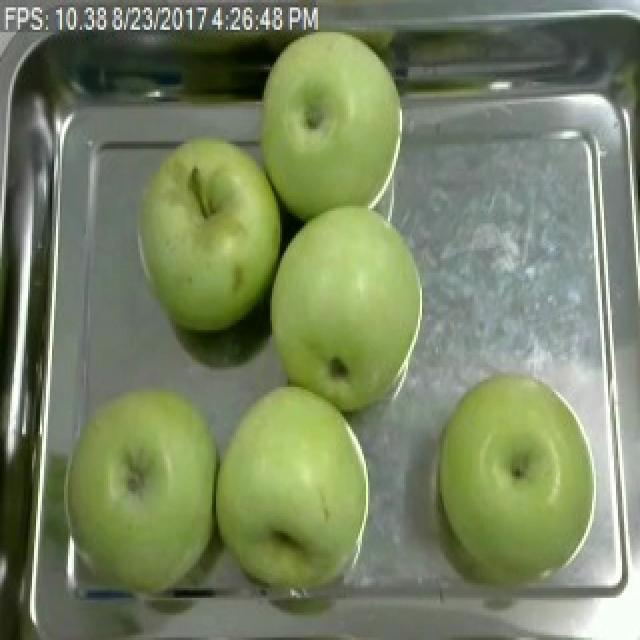50-_ripeness: (441, 368, 600, 583), (118, 130, 287, 332), (246, 210, 434, 389), (60, 377, 215, 591), (252, 28, 428, 206), (212, 386, 368, 581)
